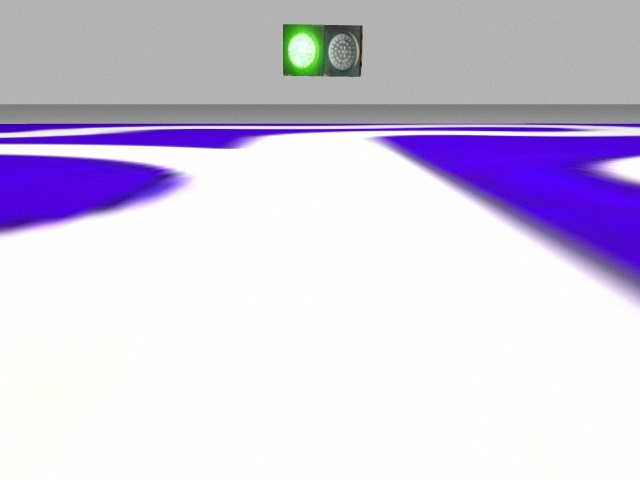green: (283, 23, 327, 77)
